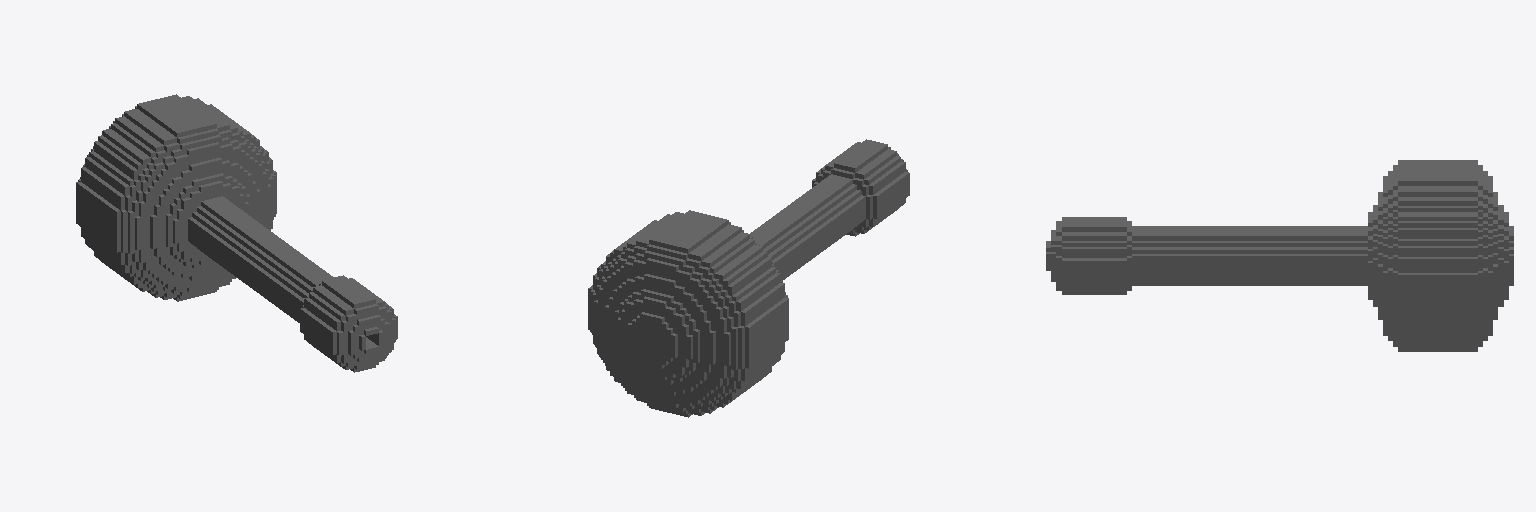
3 renders of one model, left to right at view 1: azimuth 30°, elevation 25°; view 2: azimuth 150°, elevation 25°; view 3: azimuth 270°, elevation 25°, orthographic.
Visible parts, largest first — view 1: object 1; view 2: object 1; view 3: object 1.
Part boxes in pixels (bbox=[...]): object 1: bbox=[76, 94, 397, 372]; object 1: bbox=[588, 139, 909, 417]; object 1: bbox=[1046, 160, 1513, 351].
Bounding box in the file's own units: 3.7 × 3.7 × 9.3.
Materials: 1 (1 with a texture image).